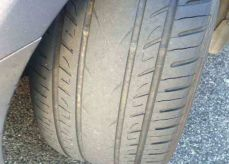bad_condition: (34, 1, 221, 164)
